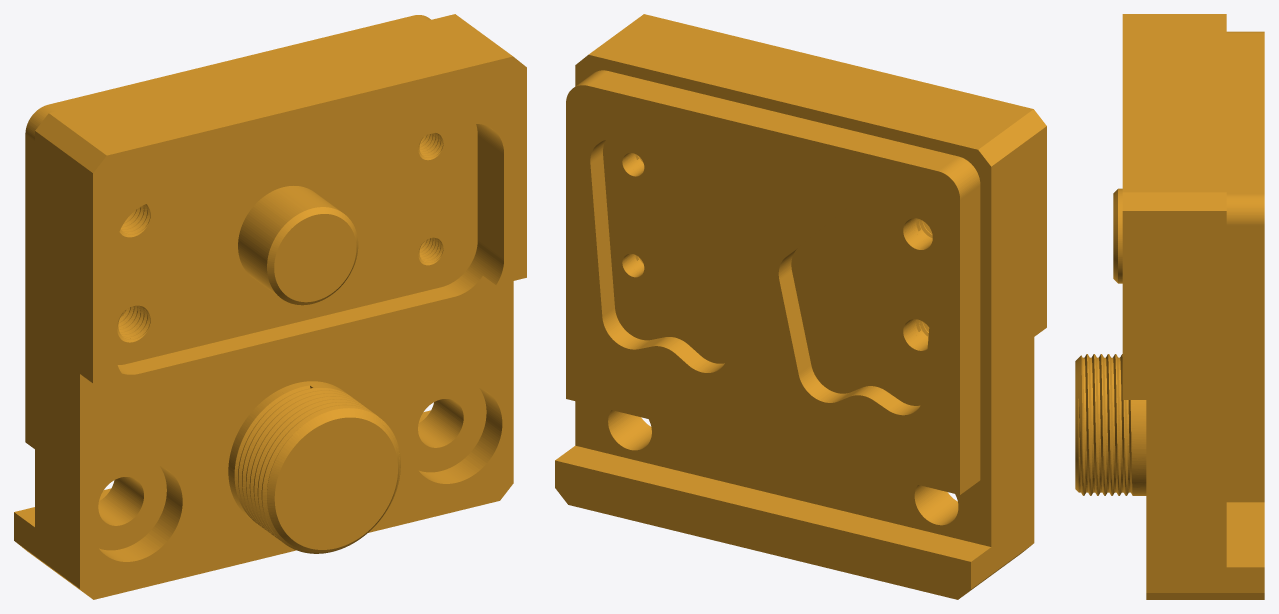
The picture shows the model from 3 angles, left to right: view 1: azimuth 30°, elevation 25°; view 2: azimuth 150°, elevation 25°; view 3: azimuth 270°, elevation 25°; orthographic projection. The views are drawn at different scales.
Bounding box in the file's own units: 95 × 95 × 40.
